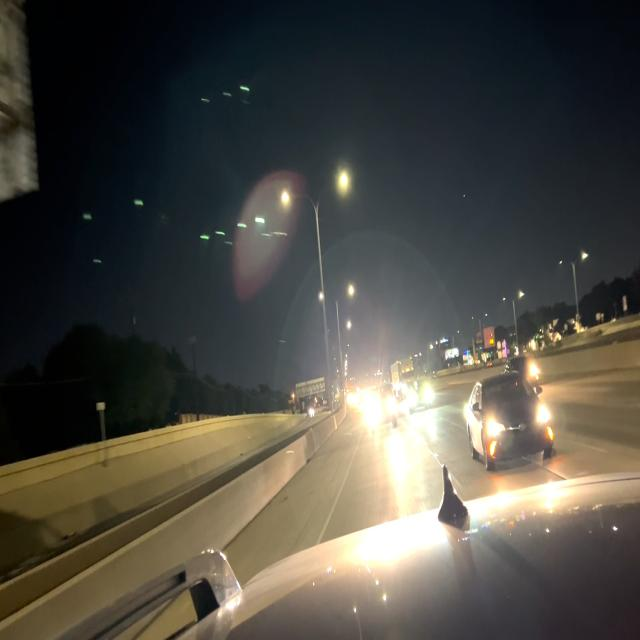back-of-sign: (294, 377, 327, 403)
